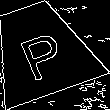P_N: (11, 20, 69, 80)
